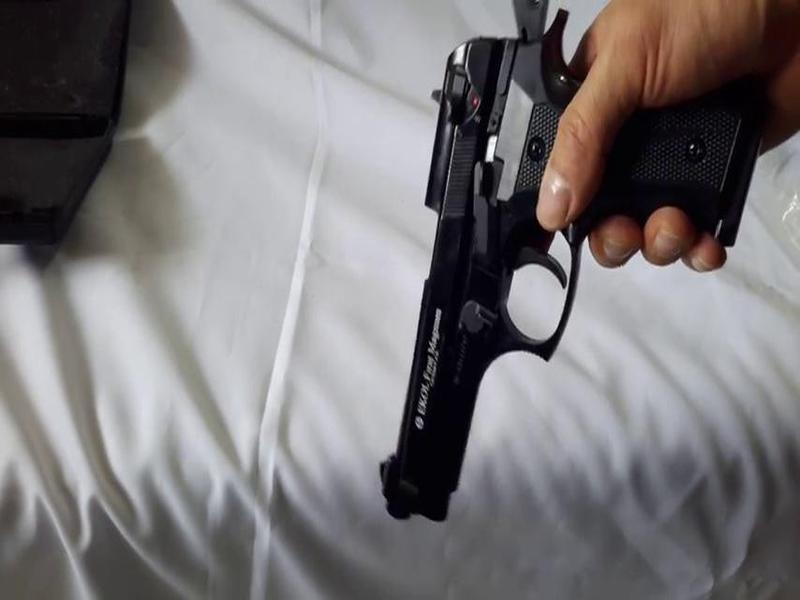Pistola: (349, 26, 715, 532)
